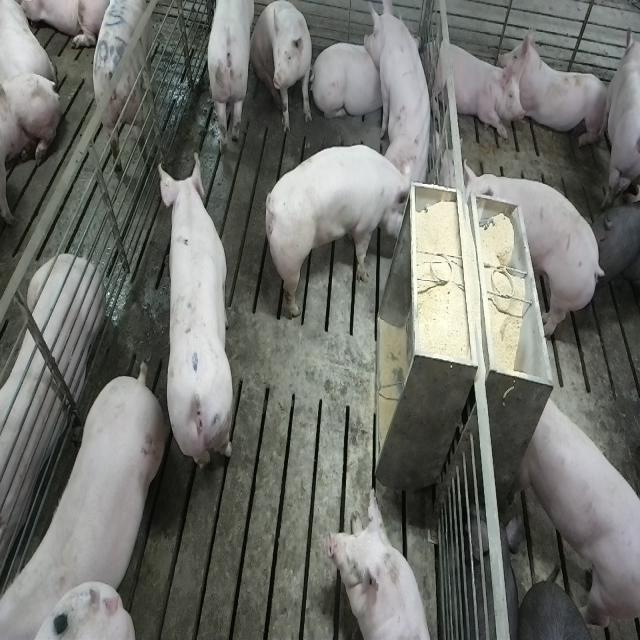Feeding: (268, 136, 416, 322)
Sitting: (366, 0, 435, 181), (251, 1, 314, 136)
Standing: (517, 392, 639, 631), (463, 170, 609, 344), (158, 152, 234, 479), (90, 1, 158, 175), (204, 1, 253, 156), (605, 23, 640, 203), (595, 201, 640, 320)
Sternal_lying: (0, 248, 102, 578), (332, 488, 438, 640), (501, 20, 611, 146), (427, 31, 522, 140), (314, 36, 386, 123)
